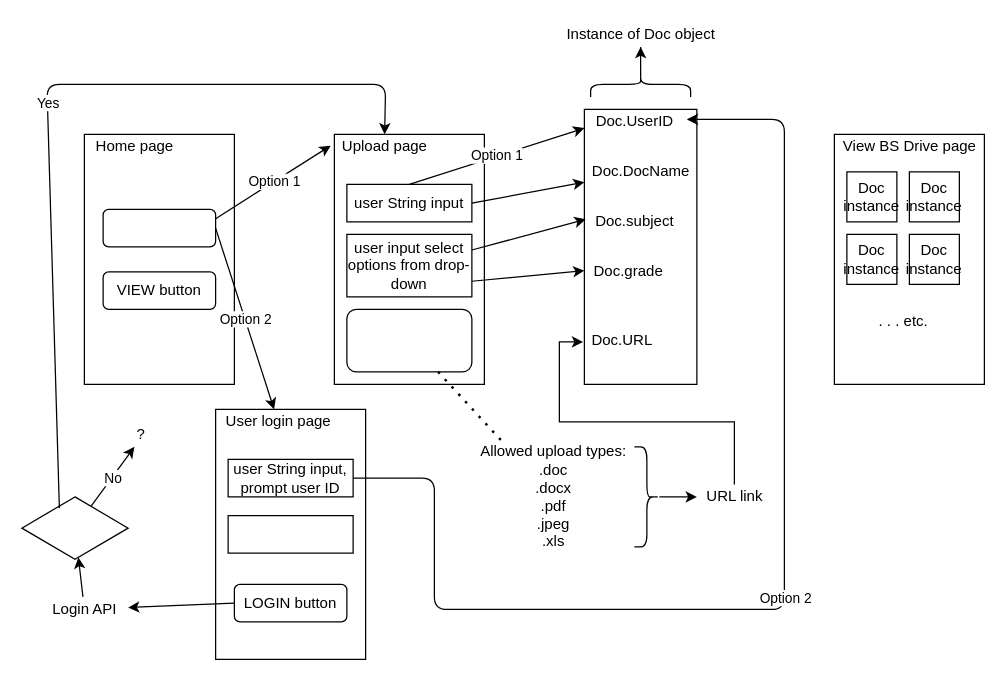
This 1006x681 diagram has some shape labels left out. The shapes that lost their labels are listed below. From the top down, each one's box as (x1, y1, x2, y2) in pixels, then its label:
(102, 208, 216, 247): UPLOAD button
(346, 308, 472, 372): user select file from local computer (/ drive?
(21, 496, 128, 559): Valid login?
(227, 514, 353, 553): user String input, prompt user pass
